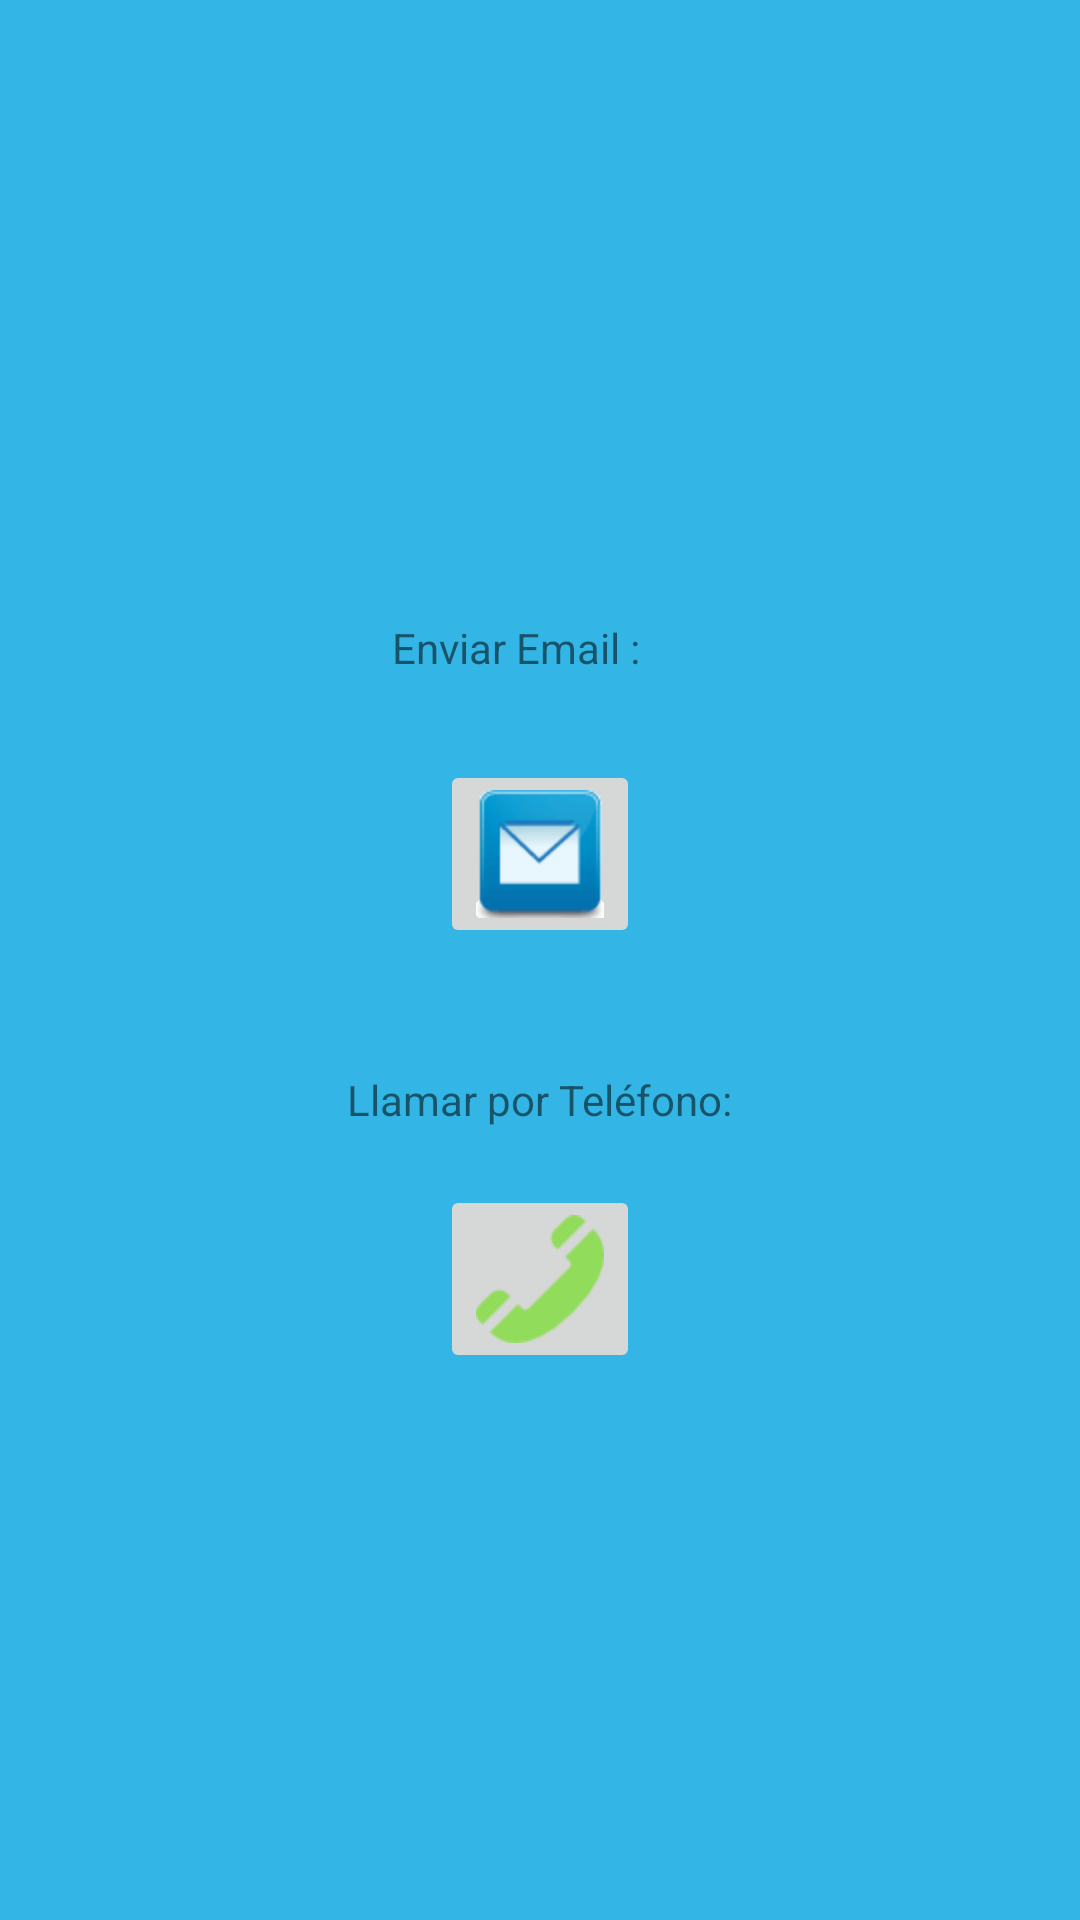

Icon click points for this 1080 × 1920 phone screenshot, format (x,y):
correo: (540,854)
